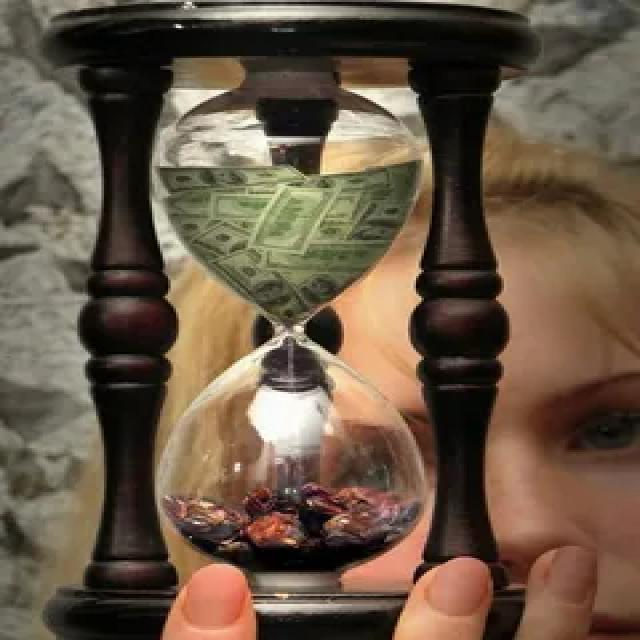clock: (41, 0, 542, 640)
